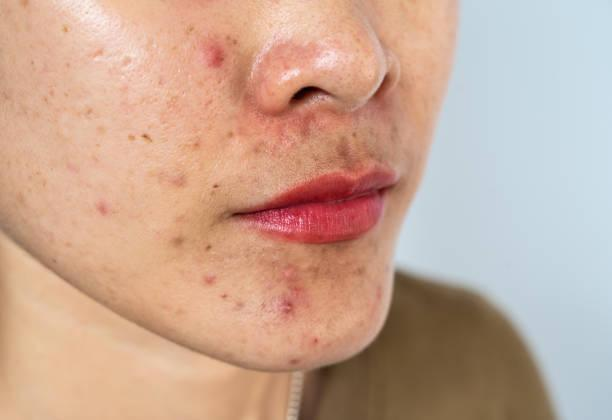Dry-Skin: (218, 187, 352, 364), (311, 42, 434, 193), (171, 24, 257, 184), (43, 64, 99, 220), (126, 176, 197, 299), (20, 27, 73, 92), (116, 50, 132, 184)
